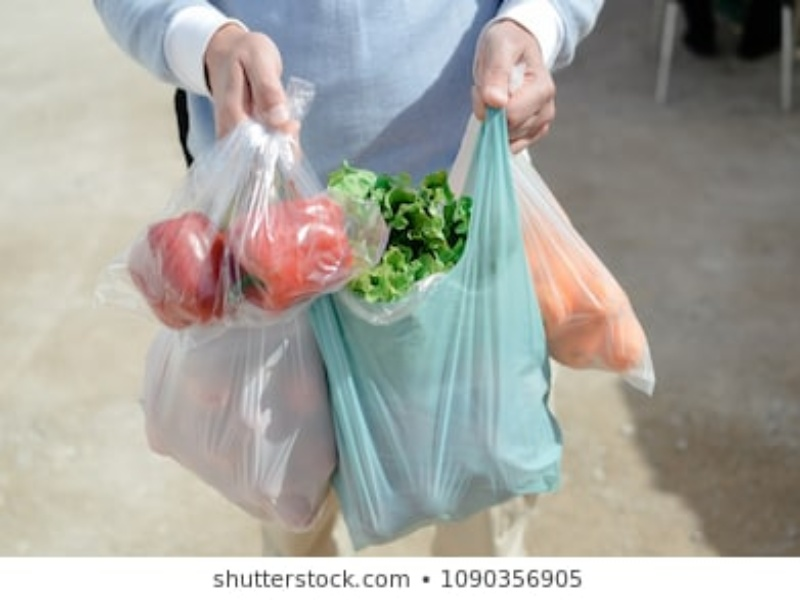plastic-bag: (328, 114, 568, 545), (100, 76, 337, 339), (131, 312, 348, 538), (504, 135, 656, 397)
